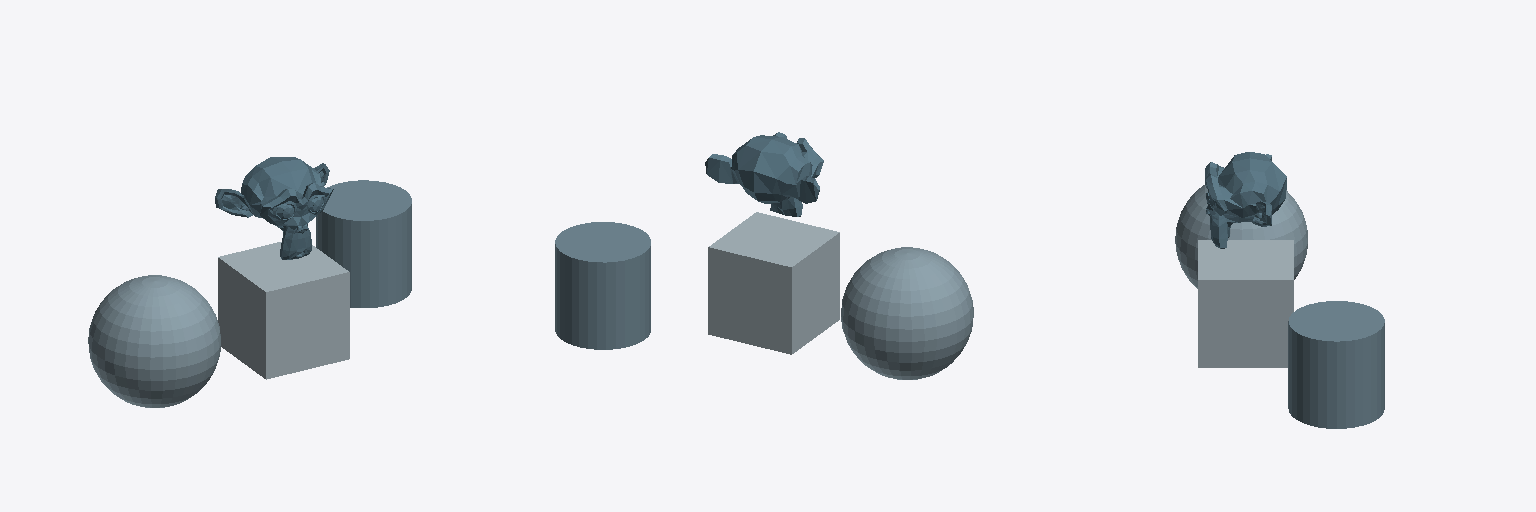
3 renders of one model, left to right at view 1: azimuth 30°, elevation 25°; view 2: azimuth 150°, elevation 25°; view 3: azimuth 270°, elevation 25°, orthographic.
Parts seen in each view (by area): view 1: Cube, Sphere, Cylinder, Suzanne; view 2: Cube, Sphere, Cylinder, Suzanne; view 3: Cube, Cylinder, Suzanne, Sphere.
Part boxes in pixels (bbox=[...]): Cube: bbox=[218, 242, 349, 379]; Sphere: bbox=[88, 275, 220, 407]; Cylinder: bbox=[316, 180, 411, 307]; Suzanne: bbox=[215, 157, 333, 259]; Cube: bbox=[708, 212, 839, 354]; Sphere: bbox=[841, 247, 973, 379]; Cylinder: bbox=[555, 222, 650, 349]; Suzanne: bbox=[705, 132, 823, 216]; Cube: bbox=[1198, 240, 1293, 367]; Cylinder: bbox=[1288, 301, 1384, 428]; Suzanne: bbox=[1205, 152, 1286, 248]; Sphere: bbox=[1175, 185, 1307, 288].
Size of the model in its own units: 8.53 by 4.71 by 4.35.
4 materials, 1 textured.